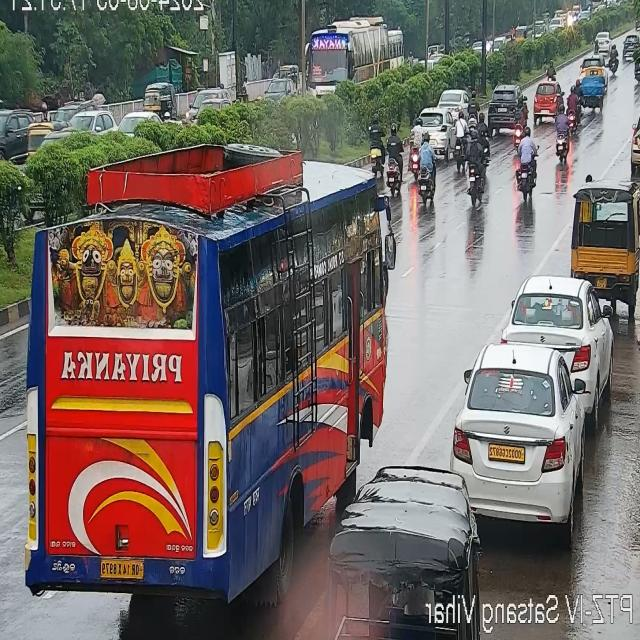2-wheelers: (464, 127, 483, 208), (516, 122, 536, 198), (364, 110, 386, 172), (448, 114, 470, 172), (420, 128, 436, 206), (388, 125, 402, 197), (408, 118, 422, 177), (557, 104, 570, 166), (453, 112, 465, 168), (466, 90, 478, 130), (539, 60, 561, 78), (474, 113, 486, 144), (568, 86, 576, 132), (574, 78, 585, 106)
auto: (576, 184, 636, 300), (579, 66, 605, 110), (142, 85, 178, 109)
bus: (9, 144, 388, 593), (309, 9, 393, 97)
car: (452, 336, 580, 538), (520, 276, 603, 406), (177, 88, 229, 126), (0, 108, 31, 162), (70, 108, 114, 134), (117, 109, 157, 135)
